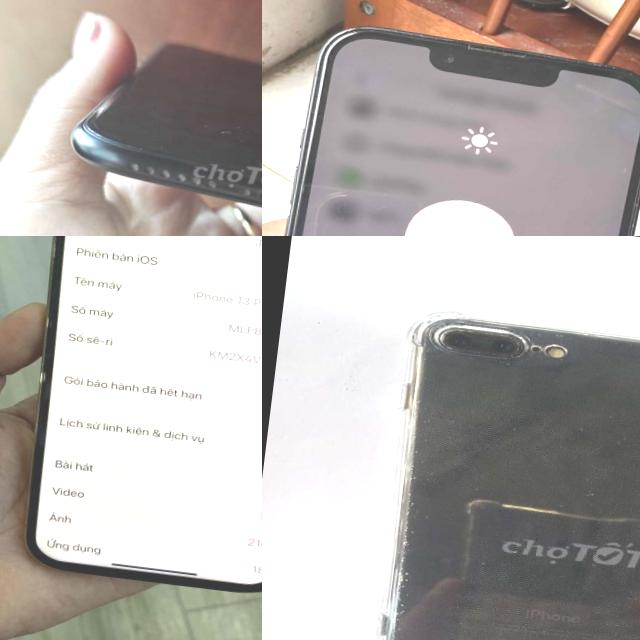gen_12_13: (8, 236, 262, 602), (262, 11, 640, 236)
gen_7_8: (344, 300, 640, 640), (58, 24, 262, 236)
scratch: (361, 405, 467, 640), (410, 308, 602, 376), (558, 398, 638, 446), (191, 108, 262, 156)
